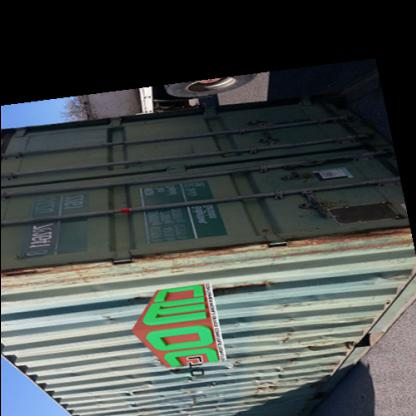Damage: (143, 238, 245, 274), (291, 223, 415, 252), (5, 262, 120, 288), (249, 366, 292, 403), (170, 382, 217, 414), (300, 330, 356, 356), (196, 284, 282, 300), (361, 270, 413, 286), (117, 384, 143, 413), (218, 347, 244, 371), (272, 326, 292, 348), (92, 312, 119, 326)
